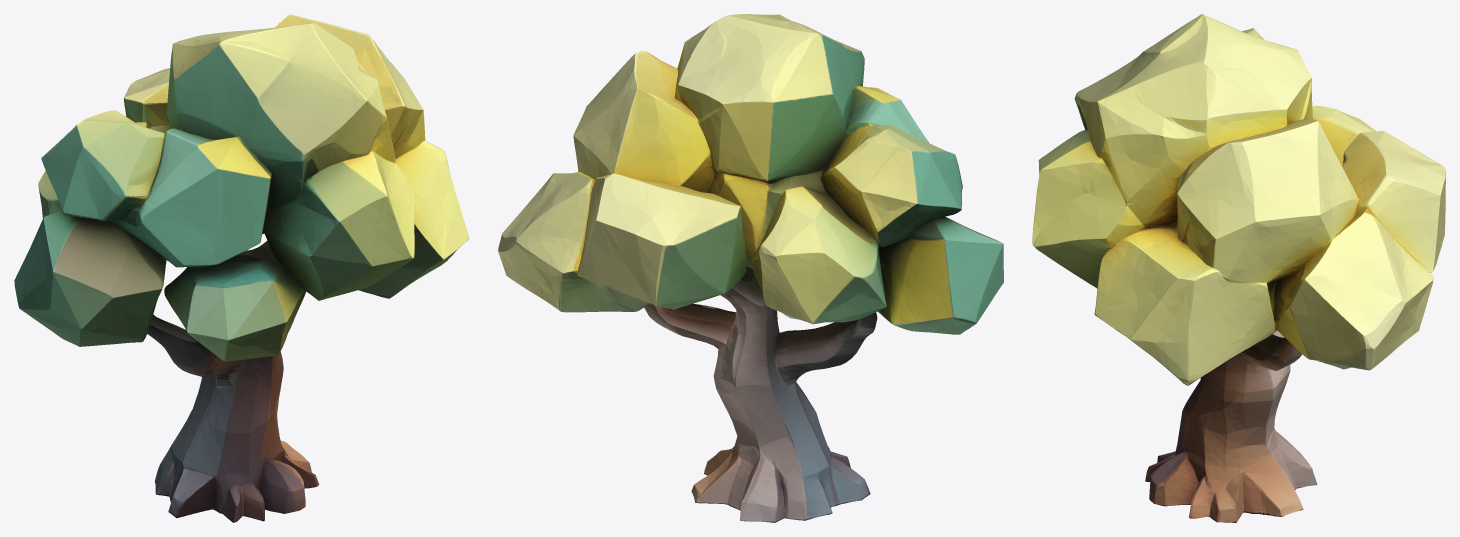
File: treeModel.glb
3 views of the same model, side by side, from view 1: azimuth 30°, elevation 25°; view 2: azimuth 150°, elevation 25°; view 3: azimuth 270°, elevation 25° (orthographic).
Parts seen in each view (by area): view 1: world; view 2: world; view 3: world.
Boxes of the visible parts, bbox=[...] form: world: bbox=[14, 14, 469, 522]; world: bbox=[498, 14, 1003, 522]; world: bbox=[1032, 14, 1445, 522].
Size of the model in its own units: 0.9579 by 0.9977 by 0.8115.
1 material, 1 textured.
